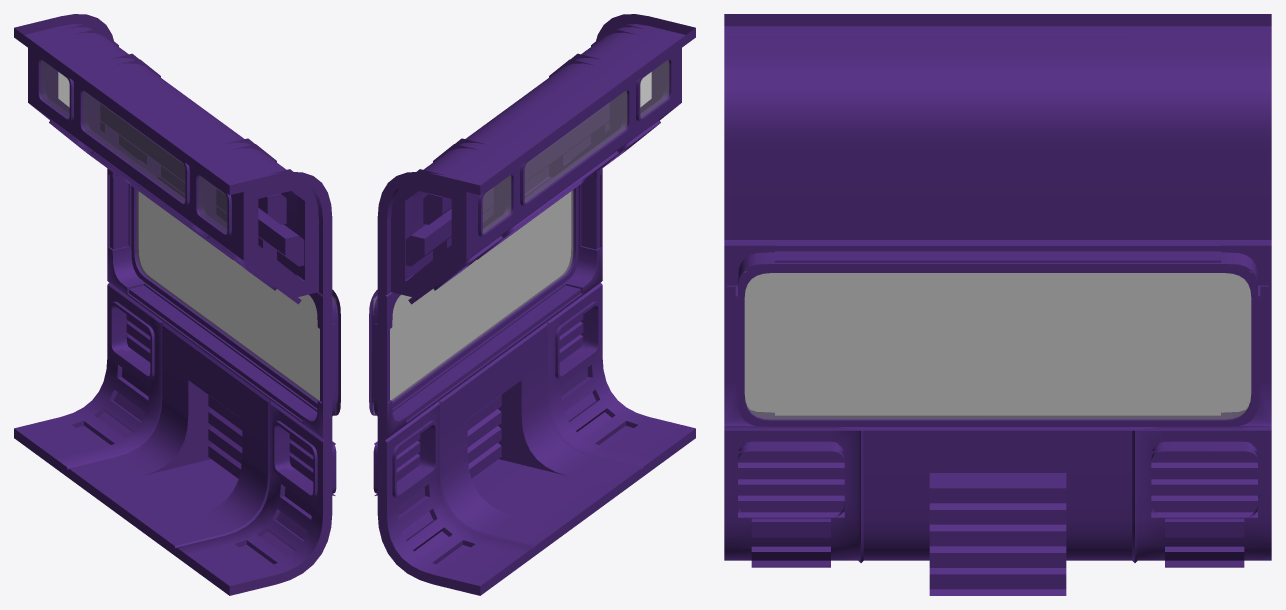
Rendered from Wall_C_4x4m_WinA.FBX.
3 renders of one model, left to right at view 1: azimuth 30°, elevation 25°; view 2: azimuth 150°, elevation 25°; view 3: azimuth 270°, elevation 25°, orthographic. The views are drawn at different scales.
Parts seen in each view (by area): view 1: Wall_C_4x4m_WinA; view 2: Wall_C_4x4m_WinA; view 3: Wall_C_4x4m_WinA.
Boxes of the visible parts, x1,y1,x2,y2 form: Wall_C_4x4m_WinA: [14, 14, 340, 595]; Wall_C_4x4m_WinA: [369, 14, 695, 595]; Wall_C_4x4m_WinA: [724, 14, 1271, 595].
Bounding box in the file's own units: 127 × 420 × 400.
